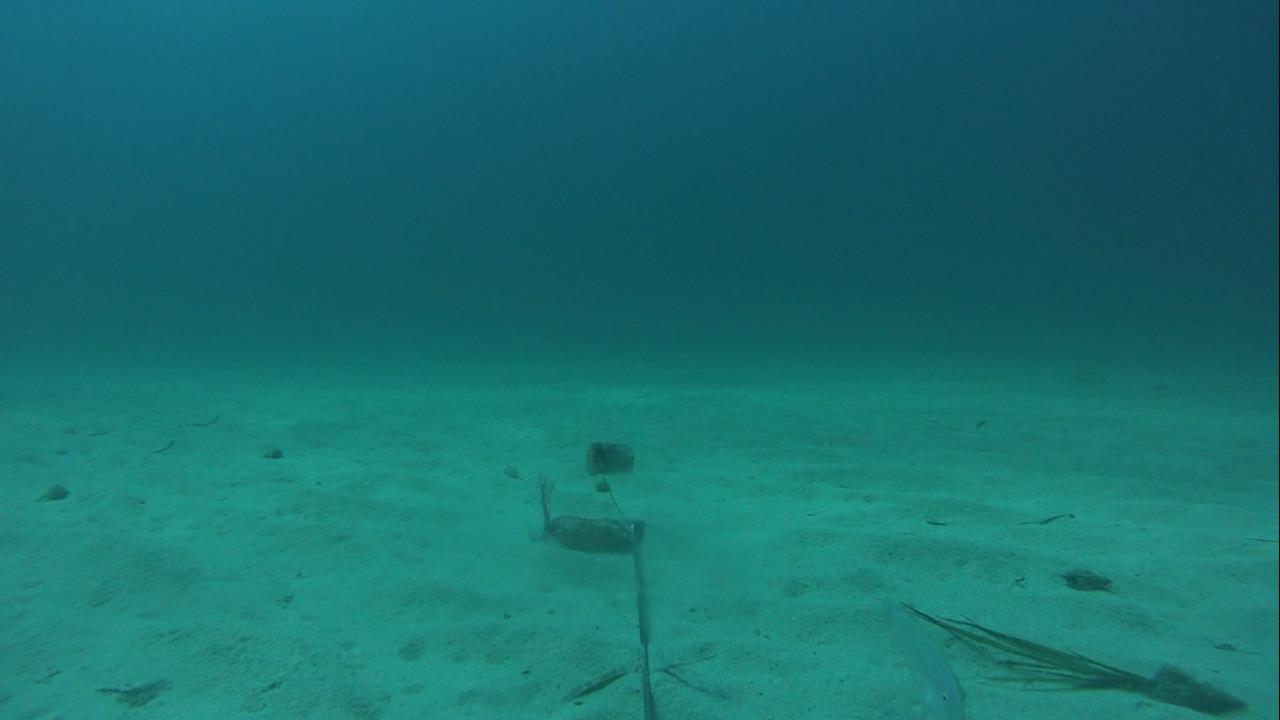raor: (869, 588, 980, 718), (577, 434, 638, 480)
